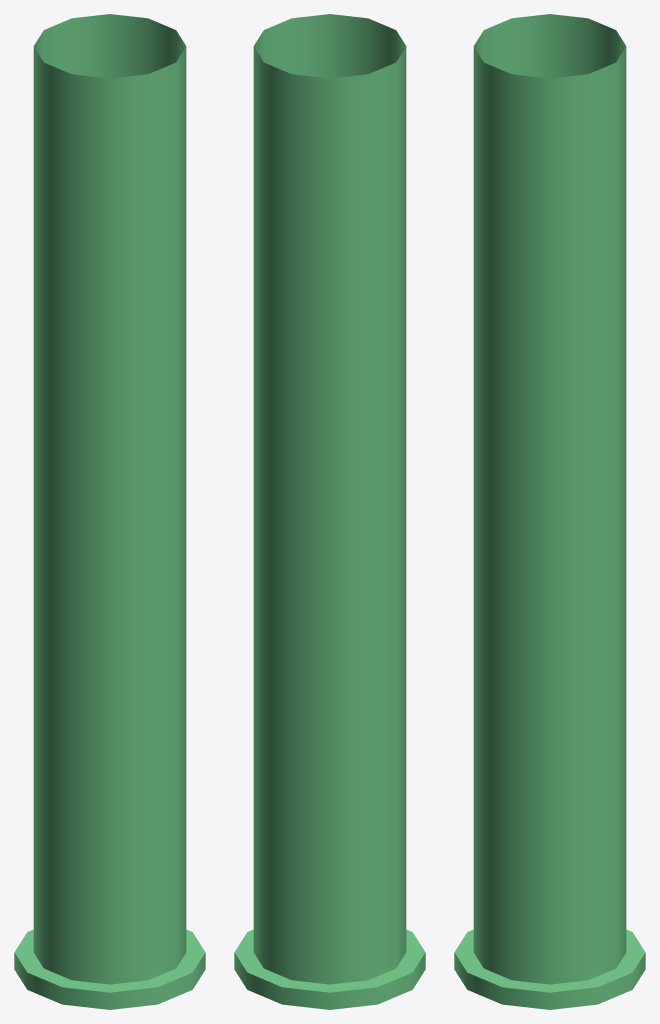
File: Pipe_Basic_2Way_Long.fbx
The picture shows the model from 3 angles, left to right: view 1: azimuth 30°, elevation 25°; view 2: azimuth 150°, elevation 25°; view 3: azimuth 270°, elevation 25°; orthographic projection.
Parts seen in each view (by area): view 1: Pipe_Basic_2Way_Long; view 2: Pipe_Basic_2Way_Long; view 3: Pipe_Basic_2Way_Long.
Boxes of the visible parts, bbox=[...] form: Pipe_Basic_2Way_Long: bbox=[14, 14, 205, 1009]; Pipe_Basic_2Way_Long: bbox=[234, 14, 425, 1009]; Pipe_Basic_2Way_Long: bbox=[454, 14, 645, 1009].
Size of the model in its own units: 75 by 400 by 75.
